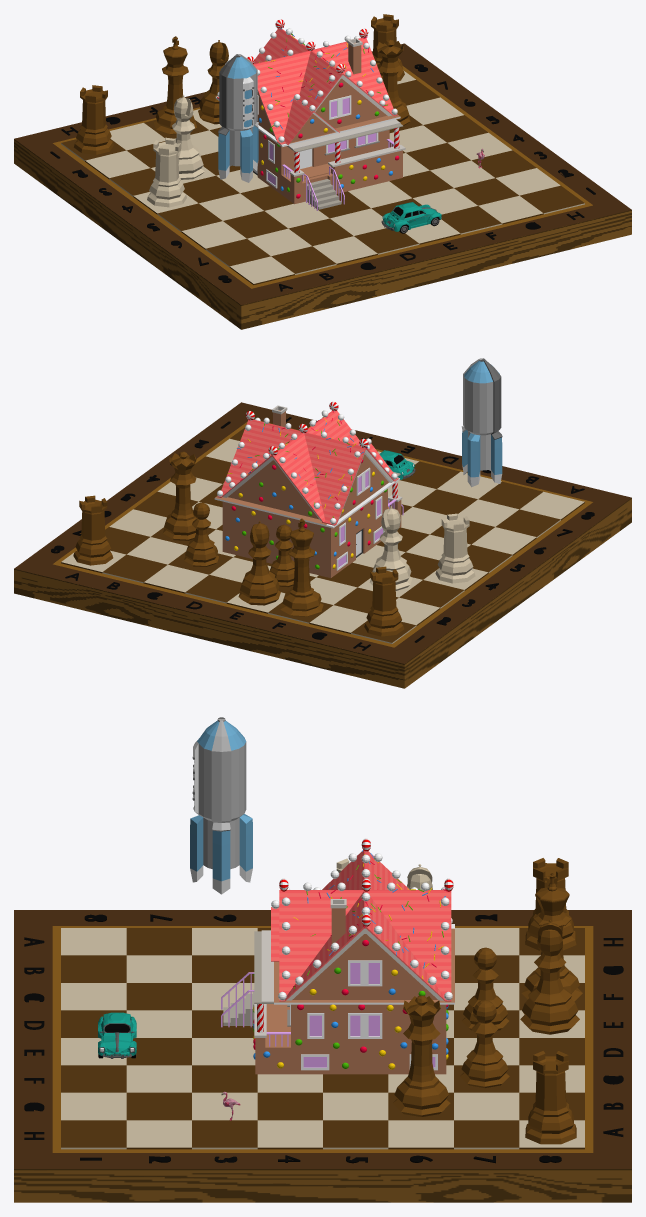
3 renders of one model, top to bottom at view 1: azimuth 30°, elevation 25°; view 2: azimuth 150°, elevation 25°; view 3: azimuth 270°, elevation 25°, orthographic. The views are drawn at different scales.
Visible parts, largest first — view 1: Cube.002, Cube.1203, OBJRANDOM_ROCKETSHIP, VEHICLES_VOLKSWAGEN; view 2: Cube.002, Cube.1203, OBJRANDOM_ROCKETSHIP, VEHICLES_VOLKSWAGEN; view 3: Cube.002, Cube.1203, OBJRANDOM_ROCKETSHIP, VEHICLES_VOLKSWAGEN.
Boxes of the visible parts, left/top/right/bottom form: Cube.002: left=14, top=14, right=631, bottom=329; Cube.1203: left=215, top=19, right=405, bottom=210; OBJRANDOM_ROCKETSHIP: left=218, top=54, right=258, bottom=182; VEHICLES_VOLKSWAGEN: left=381, top=202, right=441, bottom=233; Cube.002: left=14, top=402, right=631, bottom=688; Cube.1203: left=214, top=401, right=403, bottom=577; OBJRANDOM_ROCKETSHIP: left=461, top=358, right=502, bottom=487; VEHICLES_VOLKSWAGEN: left=379, top=450, right=415, bottom=479; Cube.002: left=14, top=858, right=631, bottom=1202; Cube.1203: left=221, top=838, right=454, bottom=1074; OBJRANDOM_ROCKETSHIP: left=190, top=717, right=252, bottom=894; VEHICLES_VOLKSWAGEN: left=98, top=1012, right=136, bottom=1058.
Bounding box in the file's own units: 3981 × 2037 × 4012.
Materials: 48 (3 with a texture image).
